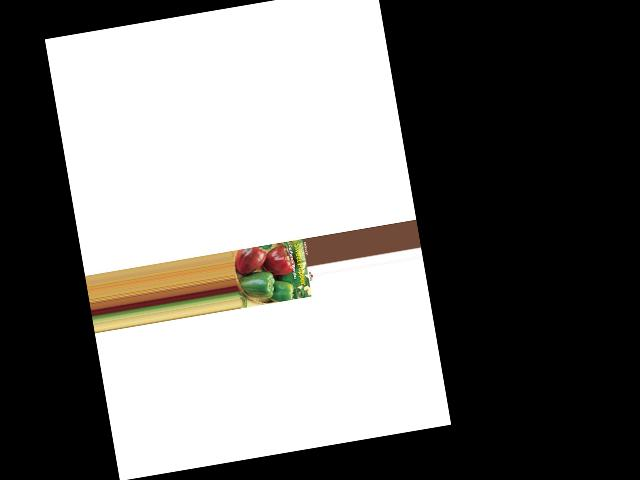bell_pepper: (264, 280, 298, 305)
